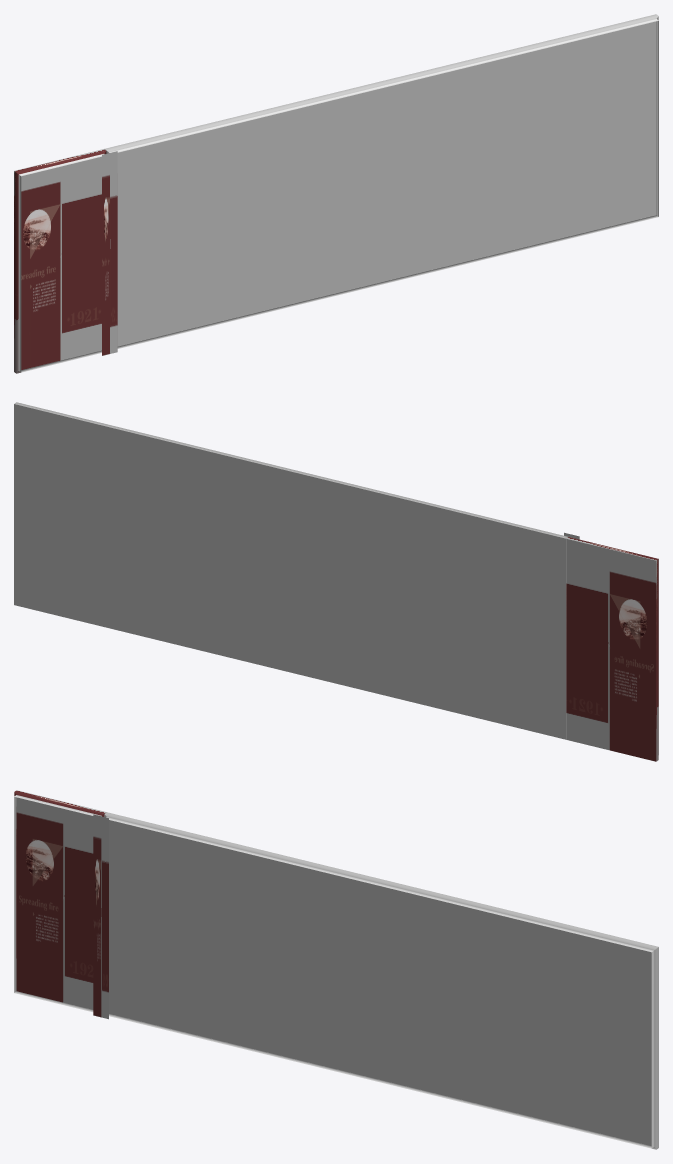
The model's file is Wall.fbx.
3 views of the same model, one above another, from view 1: azimuth 30°, elevation 25°; view 2: azimuth 150°, elevation 25°; view 3: azimuth 330°, elevation 25° (orthographic).
Parts seen in each view (by area): view 1: picture; view 2: picture; view 3: picture.
Boxes of the visible parts, <box> form: picture: <box>14,14,658,373</box>; picture: <box>14,402,658,761</box>; picture: <box>14,790,658,1149</box>.
Bounding box in the file's own units: 1244 × 372 × 18.94.
